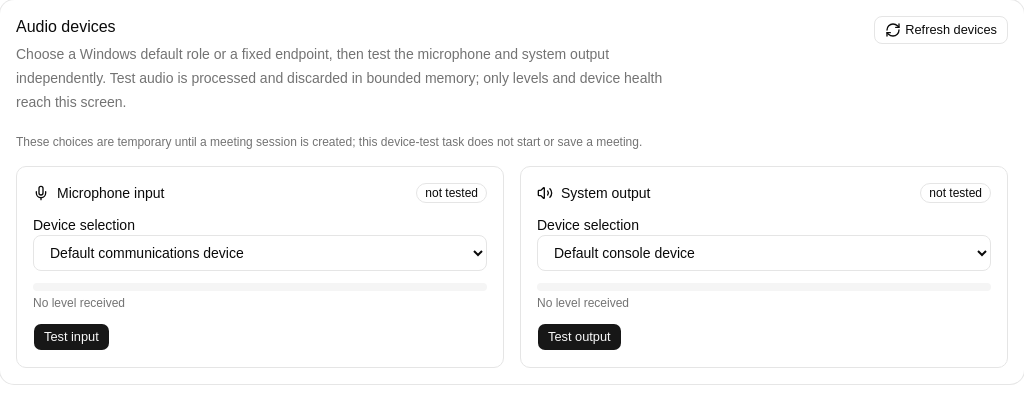
Test case: AudioDeviceSettings › lists devices and starts independent source-local tests
The width and height of the screenshot is (1024, 402).
Check: the text "choices are temporary until a meeting session" is shown, box [16, 135, 642, 149]
Step 1. Select "Synthetic microphone" in the dropdown named "Microphone input device" → (260,253), box [33, 235, 487, 271]
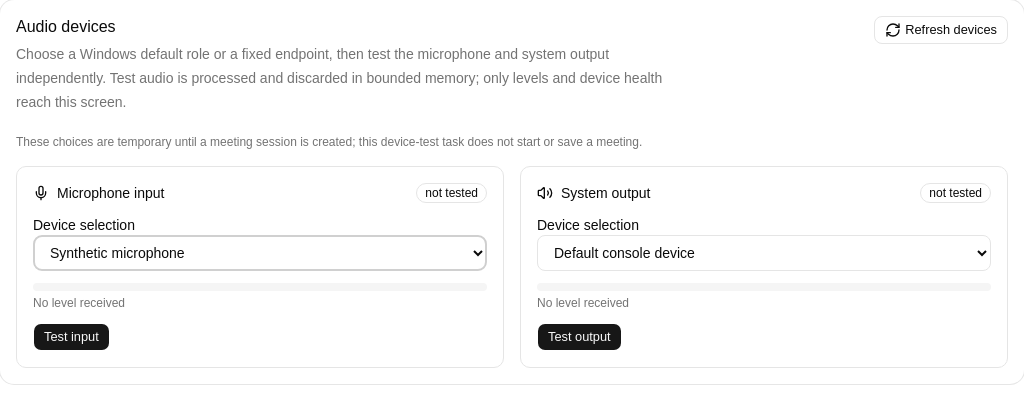
Step 2. Click the button "Test input" → (71,337), box [33, 323, 110, 351]
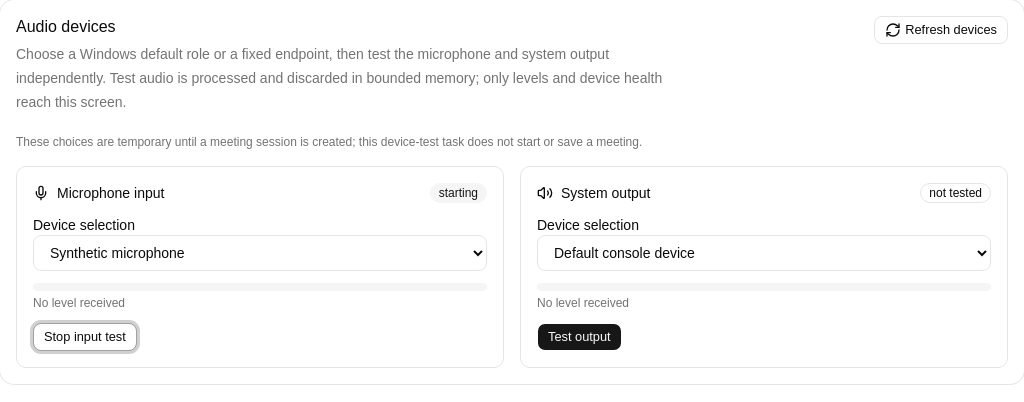
Step 3. Click the button "Test output" → (579,337), box [537, 323, 622, 351]
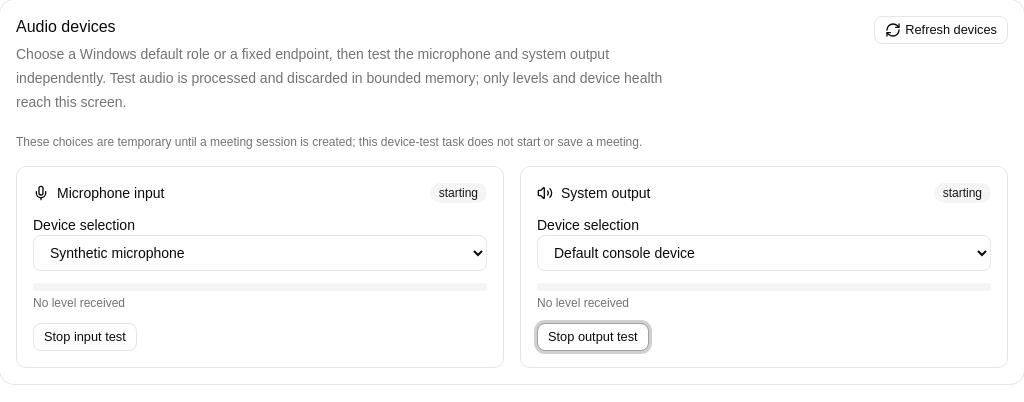
Check: the button "Stop input test" is shown, box [33, 323, 137, 351]
Check: the button "Stop output test" is shown, box [537, 323, 649, 351]
